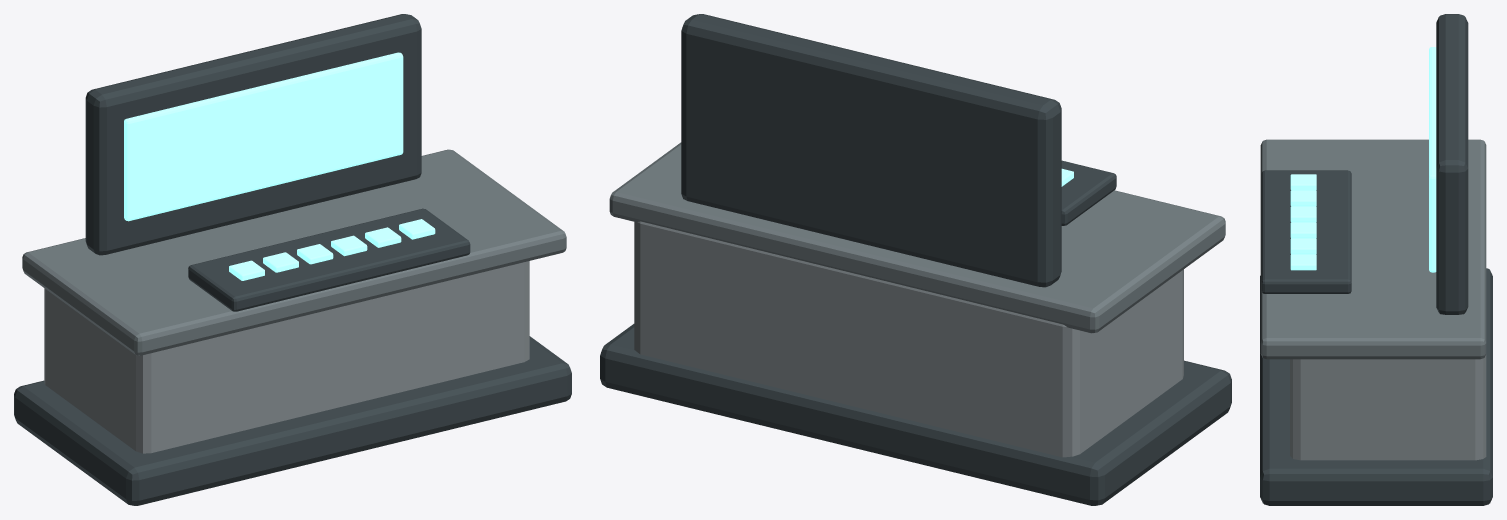
File: LabConsole_A.fbx
3 renders of one model, left to right at view 1: azimuth 30°, elevation 25°; view 2: azimuth 150°, elevation 25°; view 3: azimuth 270°, elevation 25°, orthographic. The views are drawn at different scales.
Visible parts, largest first — view 1: Console Cabinet, Console Work Surface, Console Main Display, Console Plinth, Console Display Housing, Console Keybed; view 2: Console Display Housing, Console Cabinet, Console Work Surface, Console Plinth, Console Keybed; view 3: Console Work Surface, Console Cabinet, Console Plinth, Console Display Housing, Console Keybed, Console Main Display, Console Key, Console Key.001, Console Key.002, Console Key.003, Console Key.004, Console Key.005.
Part boxes in pixels (x1=…): Console Cabinet: x1=44, y1=261, x2=529, y2=453; Console Work Surface: x1=22, y1=149, x2=566, y2=355; Console Main Display: x1=124, y1=52, x2=403, y2=221; Console Plinth: x1=14, y1=336, x2=571, y2=505; Console Display Housing: x1=85, y1=14, x2=421, y2=255; Console Keybed: x1=188, y1=208, x2=470, y2=311; Console Display Housing: x1=681, y1=14, x2=1061, y2=287; Console Cabinet: x1=634, y1=221, x2=1183, y2=457; Console Work Surface: x1=609, y1=142, x2=1225, y2=333; Console Plinth: x1=600, y1=324, x2=1231, y2=505; Console Keybed: x1=1061, y1=160, x2=1116, y2=225; Console Work Surface: x1=1260, y1=139, x2=1486, y2=359; Console Cabinet: x1=1290, y1=354, x2=1486, y2=460; Console Plinth: x1=1260, y1=268, x2=1492, y2=505; Console Display Housing: x1=1436, y1=14, x2=1468, y2=314; Console Keybed: x1=1261, y1=170, x2=1351, y2=293; Console Main Display: x1=1429, y1=47, x2=1436, y2=272; Console Key: x1=1290, y1=174, x2=1316, y2=190; Console Key.001: x1=1290, y1=190, x2=1316, y2=206; Console Key.002: x1=1290, y1=206, x2=1316, y2=222; Console Key.003: x1=1290, y1=222, x2=1316, y2=238; Console Key.004: x1=1290, y1=238, x2=1316, y2=254; Console Key.005: x1=1290, y1=254, x2=1316, y2=270.
Size of the model in its own units: 3.4 by 2.41 by 1.6.
